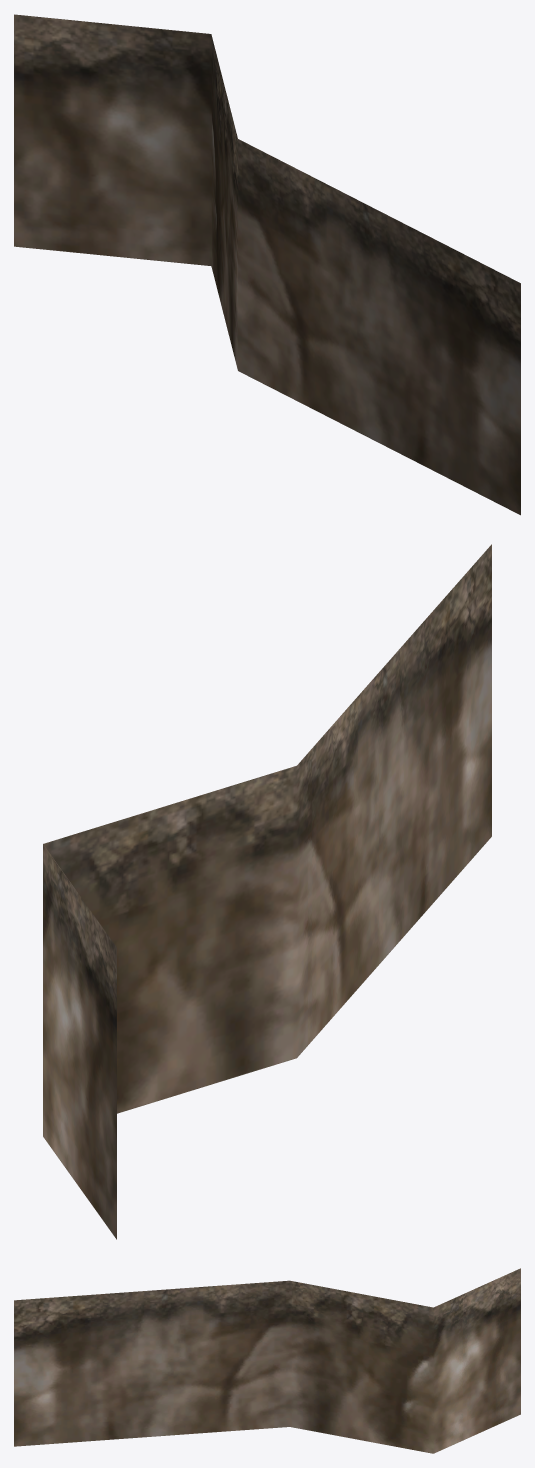
File: OVERHILL_A_01_LINE39.fbx
3 views of the same model, one above another, from view 1: azimuth 30°, elevation 25°; view 2: azimuth 150°, elevation 25°; view 3: azimuth 270°, elevation 25° (orthographic). The views are drawn at different scales.
Visible parts, largest first — view 1: OVERHILL_A_01_LINE39; view 2: OVERHILL_A_01_LINE39; view 3: OVERHILL_A_01_LINE39.
Boxes of the visible parts, x1,y1,x2,y2 form: OVERHILL_A_01_LINE39: [14, 14, 520, 515]; OVERHILL_A_01_LINE39: [43, 544, 491, 1239]; OVERHILL_A_01_LINE39: [14, 1268, 520, 1453].
Size of the model in its own units: 2481 by 4300 by 13504.
Materials: 1 (1 with a texture image).
